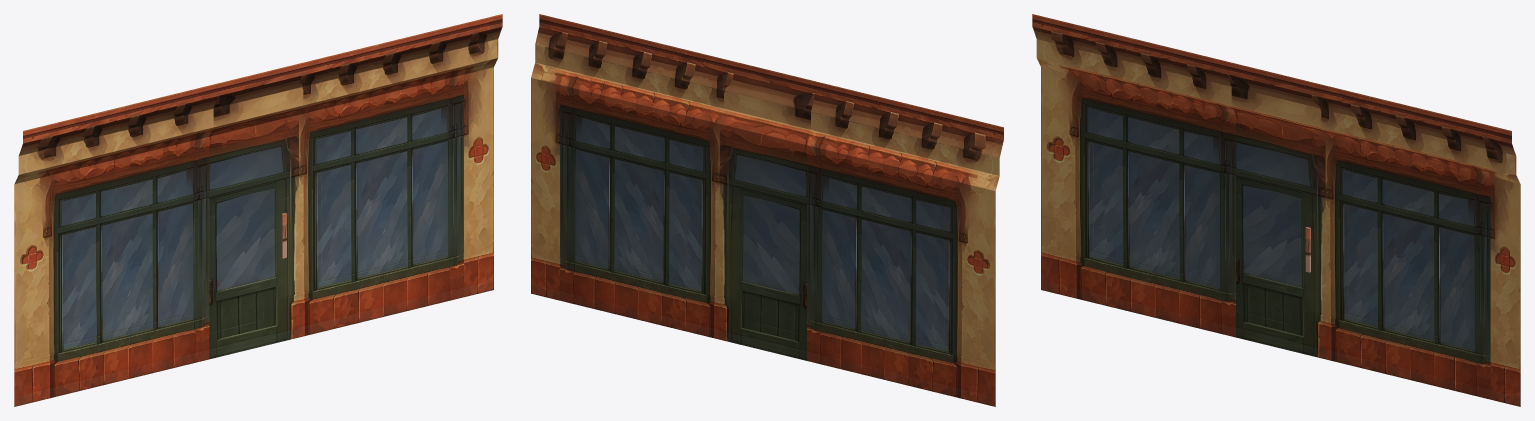
The model's file is MSN_G_Bay8B.fbx.
3 renders of one model, left to right at view 1: azimuth 30°, elevation 25°; view 2: azimuth 150°, elevation 25°; view 3: azimuth 330°, elevation 25°, orthographic. The views are drawn at different scales.
Parts seen in each view (by area): view 1: MSN_G_Bay8B; view 2: MSN_G_Bay8B; view 3: MSN_G_Bay8B.
Boxes of the visible parts, box(x1,y1,x2,y2) form: MSN_G_Bay8B: box(14, 14, 502, 406); MSN_G_Bay8B: box(531, 14, 1003, 406); MSN_G_Bay8B: box(1032, 14, 1520, 406).
Bounding box in the file's own units: 8 × 0.25 × 4.5.
Materials: 1 (1 with a texture image).
